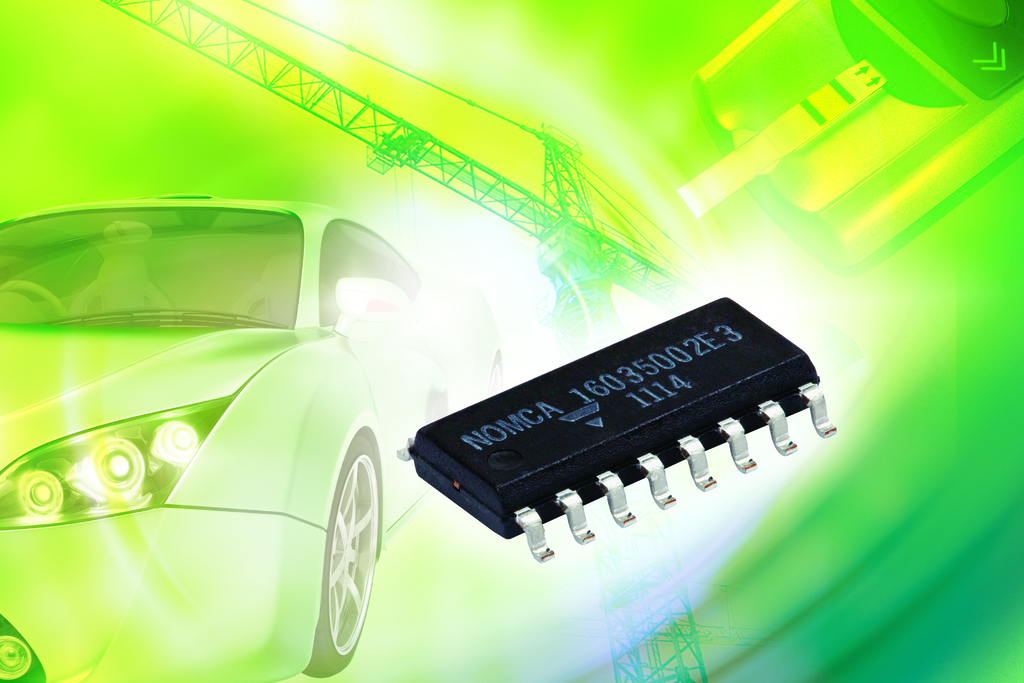Car: (0, 194, 505, 682)
